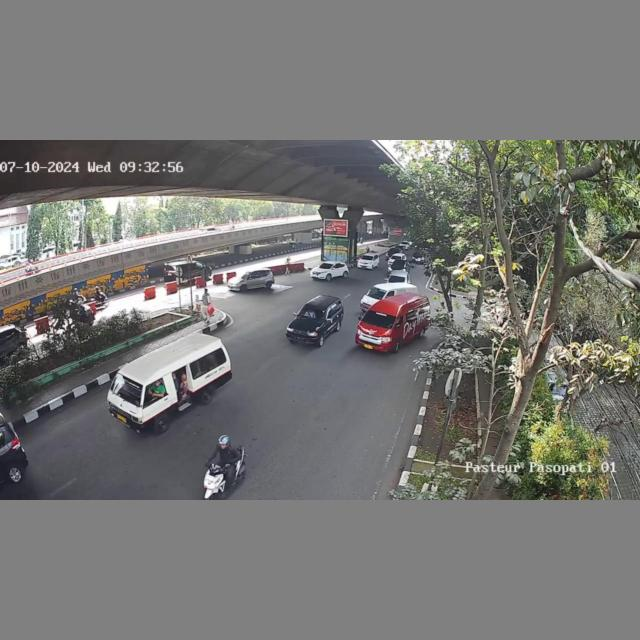windshield: (109, 373, 143, 407), (361, 309, 396, 327), (297, 307, 325, 319), (367, 285, 388, 298)
